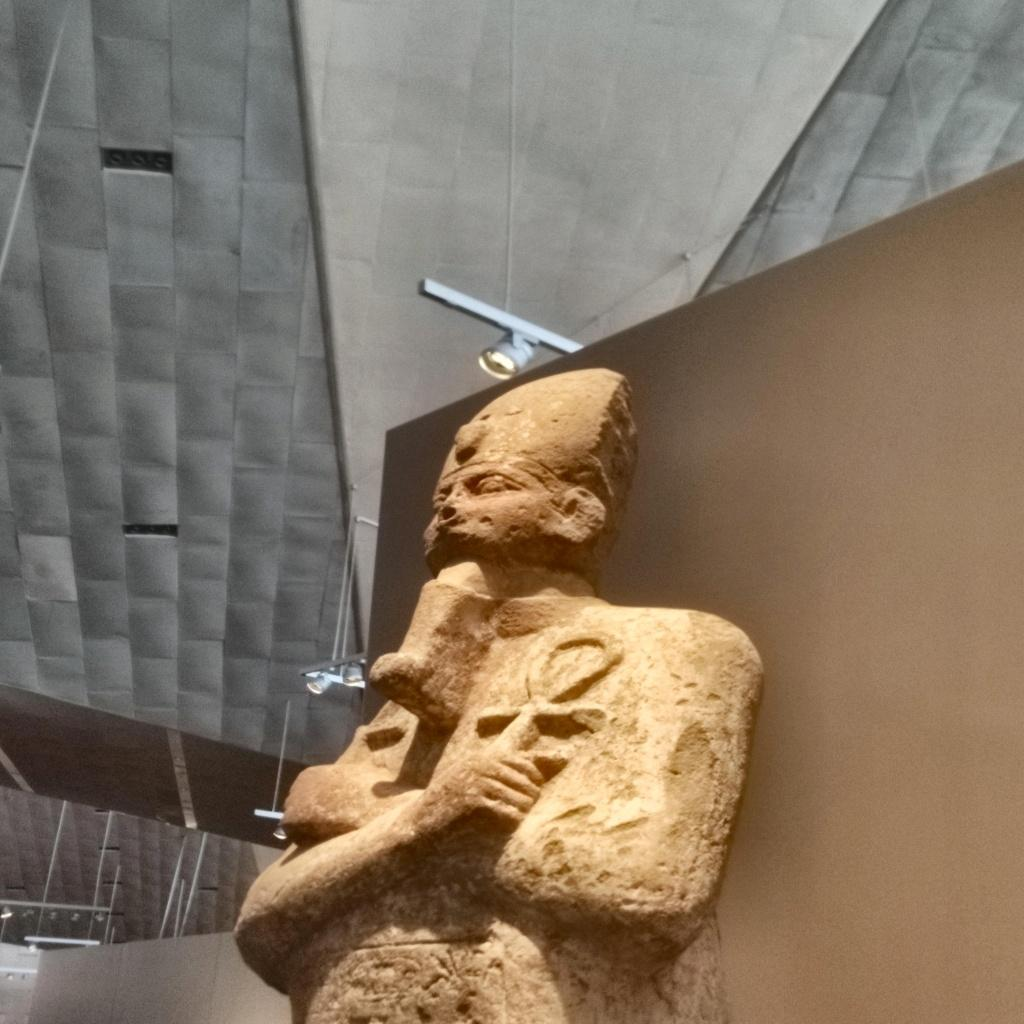Statue of Mentuhotep II: (232, 368, 732, 1019)
